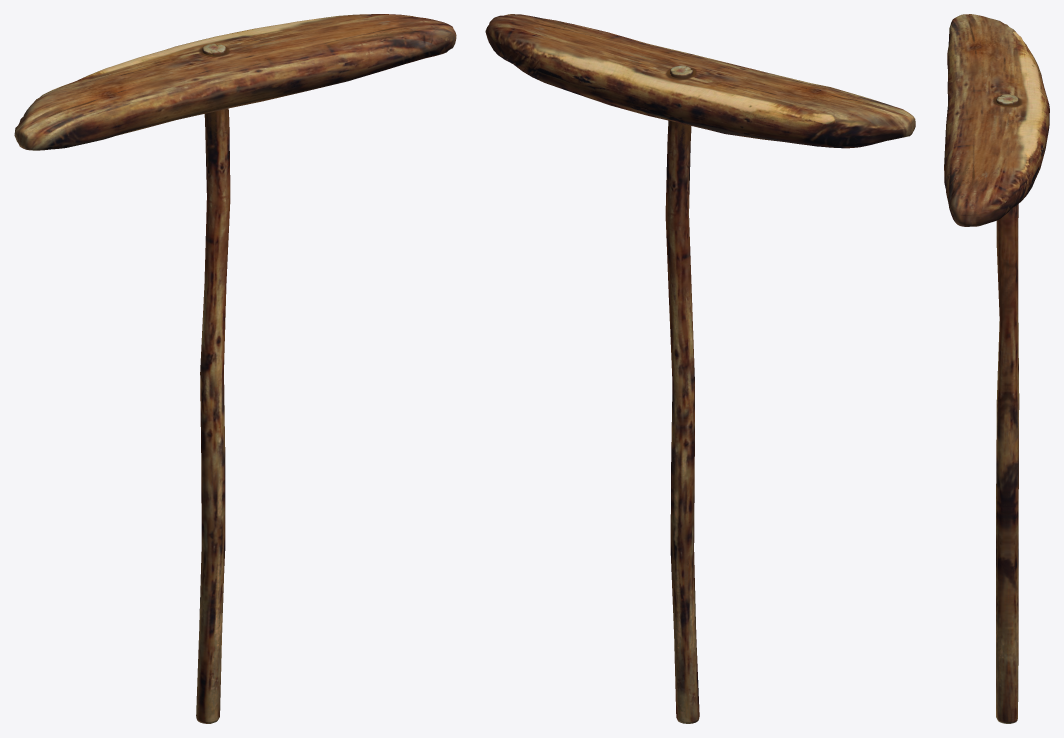
File: SM_MildaeMop.fbx
The picture shows the model from 3 angles, left to right: view 1: azimuth 30°, elevation 25°; view 2: azimuth 150°, elevation 25°; view 3: azimuth 270°, elevation 25°; orthographic projection. The views are drawn at different scales.
Visible parts, largest first — view 1: SM_MildaeMop_LOD0; view 2: SM_MildaeMop_LOD0; view 3: SM_MildaeMop_LOD0.
Part boxes in pixels (left/top/right/bottom): SM_MildaeMop_LOD0: left=14, top=14, right=456, bottom=723; SM_MildaeMop_LOD0: left=485, top=14, right=915, bottom=723; SM_MildaeMop_LOD0: left=944, top=14, right=1049, bottom=723.
Size of the model in its own units: 96.34 by 142 by 21.83.
Materials: 1 (1 with a texture image).
